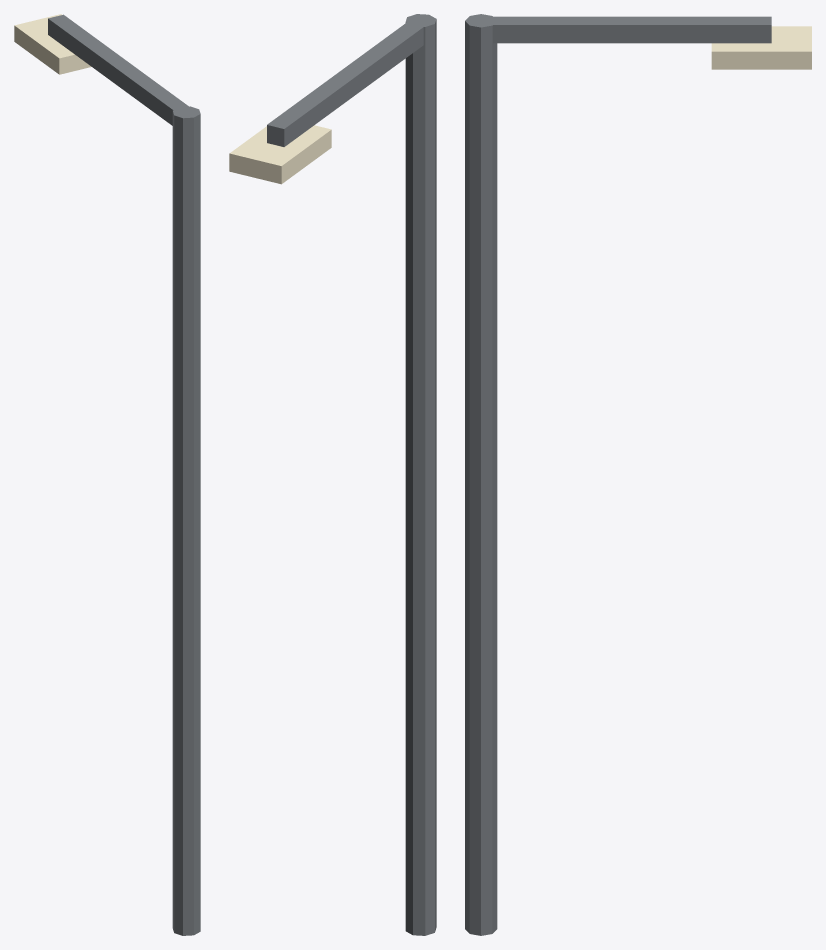
File: StreetLight.fbx
3 renders of one model, left to right at view 1: azimuth 30°, elevation 25°; view 2: azimuth 150°, elevation 25°; view 3: azimuth 270°, elevation 25°, orthographic. The views are drawn at different scales.
Visible parts, largest first — view 1: StreetLight; view 2: StreetLight; view 3: StreetLight.
Boxes of the visible parts, x1=… form: StreetLight: x1=14, y1=14, x2=200, y2=935; StreetLight: x1=229, y1=14, x2=436, y2=935; StreetLight: x1=465, y1=14, x2=811, y2=935.
Size of the model in its own units: 30 by 500 by 173.
